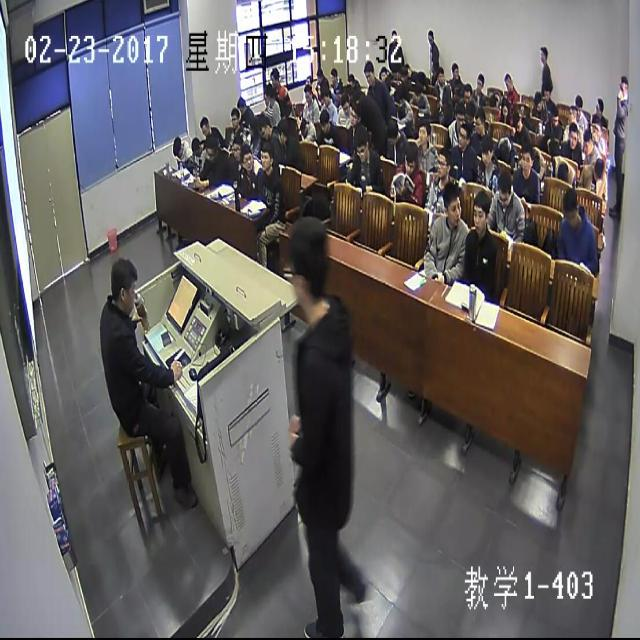person: (287, 226, 330, 304), (112, 258, 134, 308), (443, 184, 462, 226), (562, 190, 578, 227), (472, 196, 488, 231), (354, 127, 370, 160), (436, 148, 450, 180), (404, 144, 418, 176), (497, 177, 511, 206), (239, 145, 254, 170), (520, 140, 531, 173), (363, 60, 376, 86), (481, 139, 493, 167), (259, 145, 272, 170), (418, 122, 431, 145), (594, 158, 606, 181), (259, 116, 270, 141), (204, 143, 218, 162), (457, 123, 468, 147), (173, 135, 184, 158), (294, 113, 305, 136), (278, 117, 288, 142), (387, 121, 397, 146), (474, 111, 485, 133), (442, 100, 453, 122), (348, 106, 360, 126), (583, 131, 593, 155), (230, 107, 240, 129), (320, 84, 330, 106), (558, 162, 569, 182), (232, 136, 241, 160), (533, 89, 542, 113), (199, 115, 209, 136), (499, 141, 509, 162), (475, 73, 485, 94), (531, 147, 541, 168), (320, 110, 329, 133), (264, 85, 274, 105), (568, 124, 576, 149), (511, 112, 522, 130), (191, 137, 201, 156), (547, 134, 557, 153), (260, 86, 269, 106), (573, 97, 582, 117), (454, 107, 463, 126), (566, 106, 576, 123), (353, 85, 362, 103), (504, 72, 513, 90), (539, 46, 548, 64), (396, 84, 405, 102), (549, 109, 558, 126), (304, 84, 312, 103), (595, 98, 603, 117), (593, 119, 601, 137), (341, 95, 348, 115), (270, 69, 278, 86), (463, 85, 471, 102), (490, 90, 498, 107), (238, 98, 246, 114), (436, 67, 444, 83), (398, 103, 406, 119), (466, 107, 474, 123), (502, 100, 509, 118), (620, 75, 626, 94), (316, 68, 324, 82), (451, 61, 458, 77), (542, 86, 550, 100), (305, 74, 312, 89), (405, 63, 412, 78), (329, 69, 337, 82), (390, 29, 397, 43), (428, 29, 434, 45), (348, 71, 355, 84), (347, 85, 354, 98), (380, 67, 386, 81), (414, 85, 420, 98)
